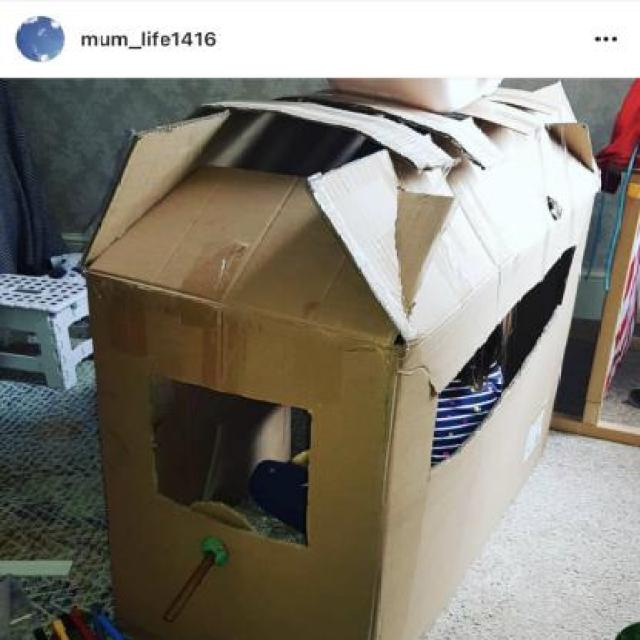box: (79, 81, 596, 640)
